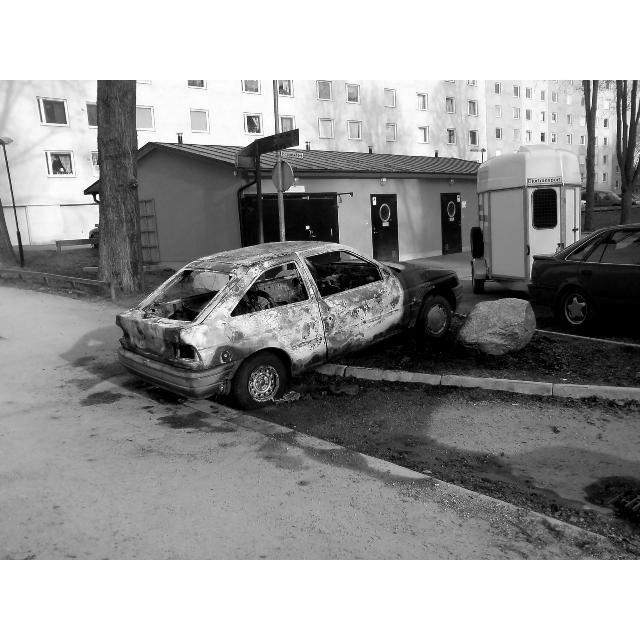Rear-windscreen-Damage: (137, 273, 233, 325)
doorouter-dent: (247, 317, 329, 368), (326, 289, 396, 346)
rear-bumper-dent: (107, 316, 213, 398)
